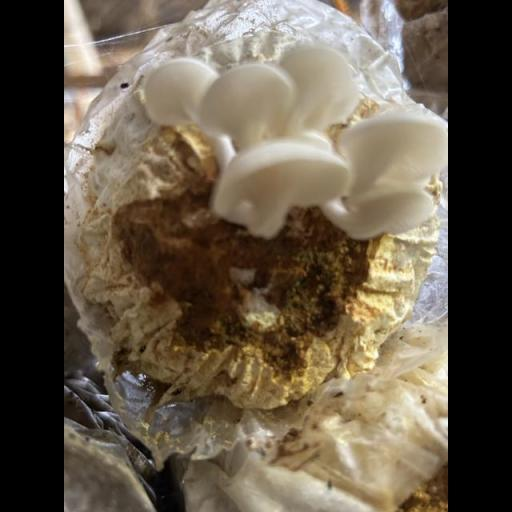White Oyster Mushroom: (140, 46, 444, 236)
